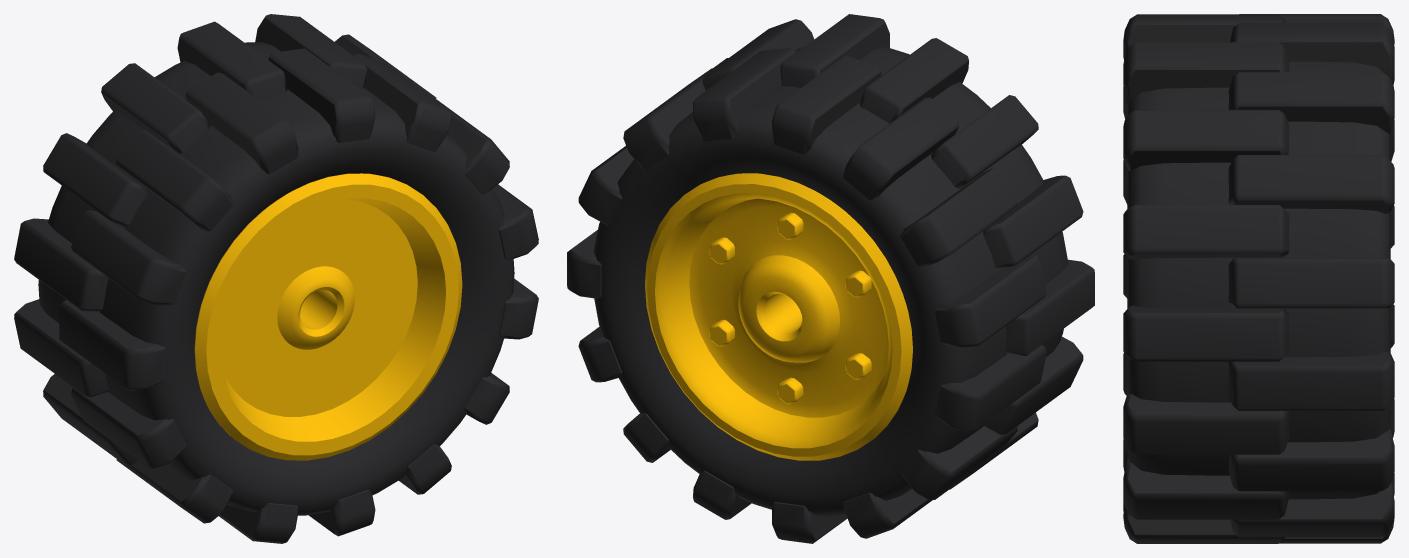
Rendered from SM_Wheel_W03_Lug.fbx.
The picture shows the model from 3 angles, left to right: view 1: azimuth 30°, elevation 25°; view 2: azimuth 150°, elevation 25°; view 3: azimuth 270°, elevation 25°; orthographic projection. The views are drawn at different scales.
Visible parts, largest first — view 1: SM_Wheel_W03_Lug; view 2: SM_Wheel_W03_Lug; view 3: SM_Wheel_W03_Lug.
Boxes of the visible parts, box(x1,y1,x2,y2) form: SM_Wheel_W03_Lug: box(14, 14, 538, 543); SM_Wheel_W03_Lug: box(567, 14, 1094, 543); SM_Wheel_W03_Lug: box(1123, 14, 1394, 543).
Size of the model in its own units: 0.143 by 0.2788 by 0.2794.
